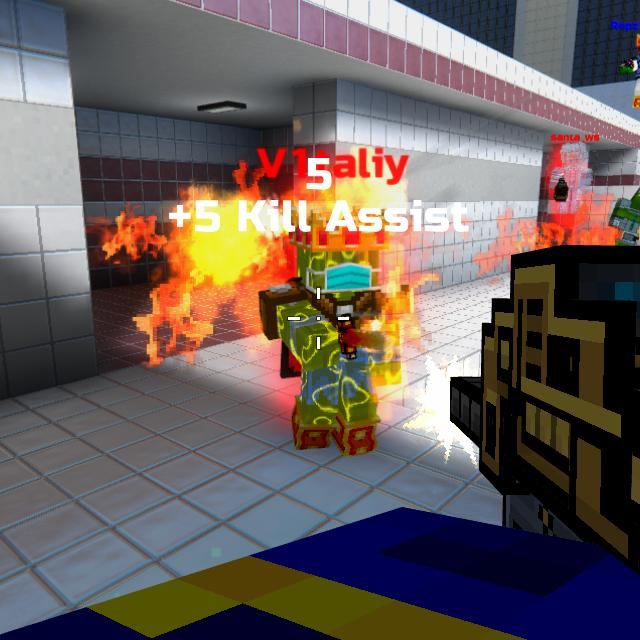Enemy: (258, 221, 410, 457), (551, 144, 585, 213)
